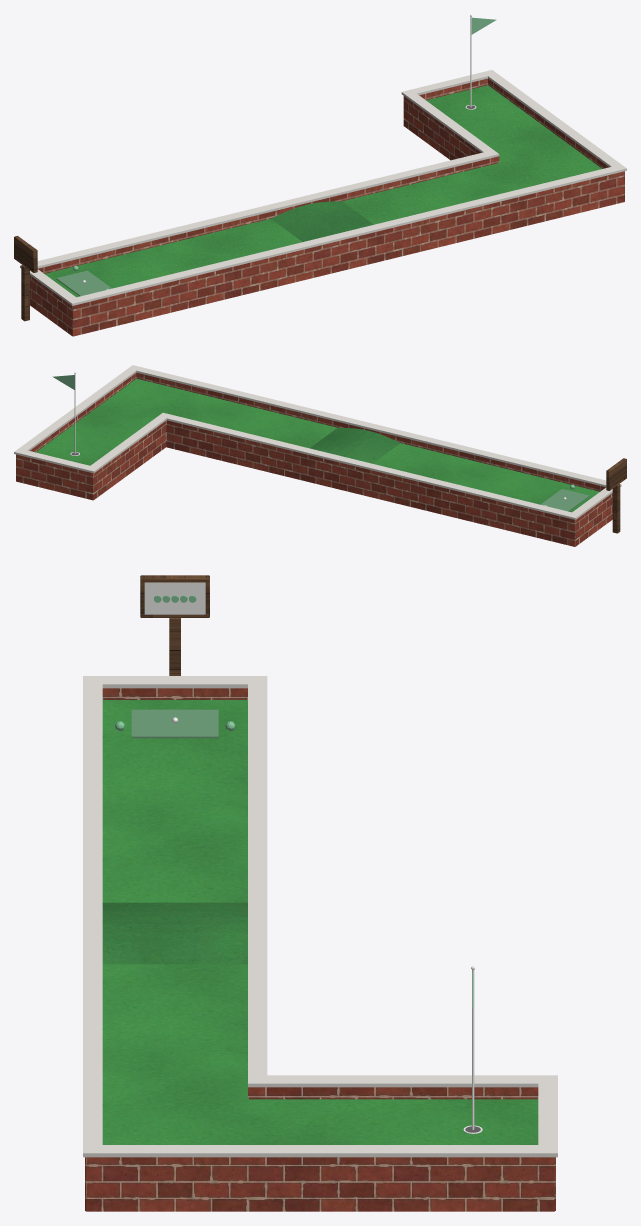
File: hole_5.glb
3 renders of one model, top to bottom at view 1: azimuth 30°, elevation 25°; view 2: azimuth 150°, elevation 25°; view 3: azimuth 270°, elevation 25°, orthographic. The views are drawn at different scales.
Visible parts, largest first — view 1: hole_5_brick, hole_5_turf, hole_5_coping, hole_5_turf2, hole_5_dkwood, hole_5_tee_m; view 2: hole_5_brick, hole_5_turf, hole_5_coping, hole_5_turf2, hole_5_dkwood, hole_5_tee_m; view 3: hole_5_turf, hole_5_brick, hole_5_coping, hole_5_turf2, hole_5_tee_m, hole_5_paint_w, hole_5_dkwood.
Part boxes in pixels (<box>): hole_5_brick: <box>30,78,624,336</box>; hole_5_turf: <box>45,85,601,297</box>; hole_5_coping: <box>20,70,626,305</box>; hole_5_turf2: <box>271,201,373,241</box>; hole_5_dkwood: <box>14,236,37,321</box>; hole_5_tee_m: <box>56,270,111,296</box>; hole_5_brick: <box>16,372,612,546</box>; hole_5_turf: <box>36,378,599,512</box>; hole_5_coping: <box>14,365,621,519</box>; hole_5_turf2: <box>310,427,400,463</box>; hole_5_dkwood: <box>606,458,626,533</box>; hole_5_tee_m: <box>540,489,589,511</box>; hole_5_turf: <box>102,700,538,1144</box>; hole_5_brick: <box>85,688,555,1211</box>; hole_5_coping: <box>83,676,557,1157</box>; hole_5_turf2: <box>102,902,247,964</box>; hole_5_tee_m: <box>131,709,218,738</box>; hole_5_paint_w: <box>144,582,482,1133</box>; hole_5_dkwood: <box>140,575,209,675</box>.
Bounding box in the file's own units: 8.1 × 1.57 × 3.27.
Materials: 11 (5 with a texture image).
